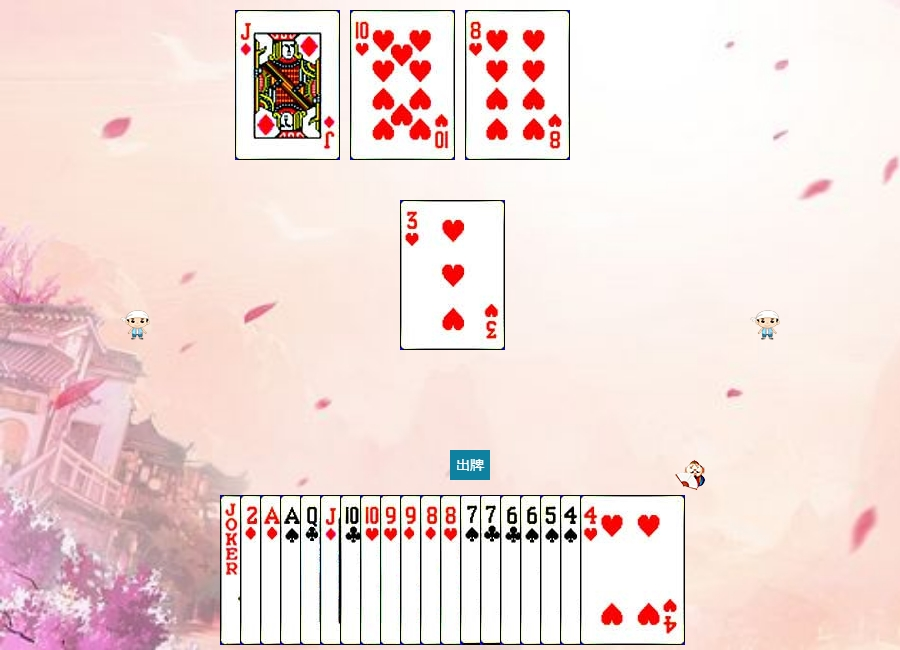10~2: (340, 495, 445, 645)
10~3: (350, 10, 455, 160), (360, 495, 465, 645)
11~1: (235, 10, 340, 160), (320, 495, 425, 645)
12~2: (300, 495, 405, 645)
14~1: (260, 495, 365, 645)
14~4: (280, 495, 385, 645)
15~1: (240, 495, 345, 645)
18~4: (220, 495, 325, 645)
3~3: (400, 200, 505, 350)
4~3: (580, 495, 685, 645)
4~4: (560, 495, 665, 645)
5~4: (540, 495, 645, 645)
6~2: (500, 495, 605, 645)
6~4: (520, 495, 625, 645)
7~2: (480, 495, 585, 645)
7~4: (460, 495, 565, 645)
8~1: (420, 495, 525, 645)
8~3: (465, 10, 570, 160), (440, 495, 545, 645)
9~1: (400, 495, 505, 645)
9~3: (380, 495, 485, 645)
